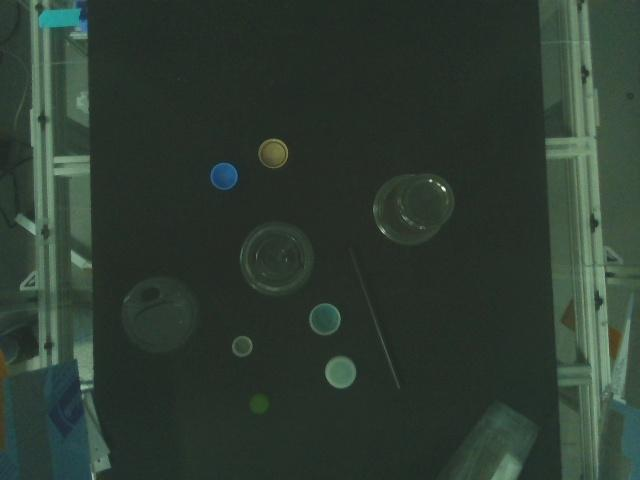plastic: (429, 394, 545, 480), (345, 243, 410, 392), (118, 273, 205, 357), (369, 167, 459, 248), (236, 214, 319, 301), (321, 351, 360, 392), (306, 300, 344, 338), (256, 135, 291, 171), (208, 161, 241, 193), (245, 389, 274, 420), (229, 332, 257, 359)
